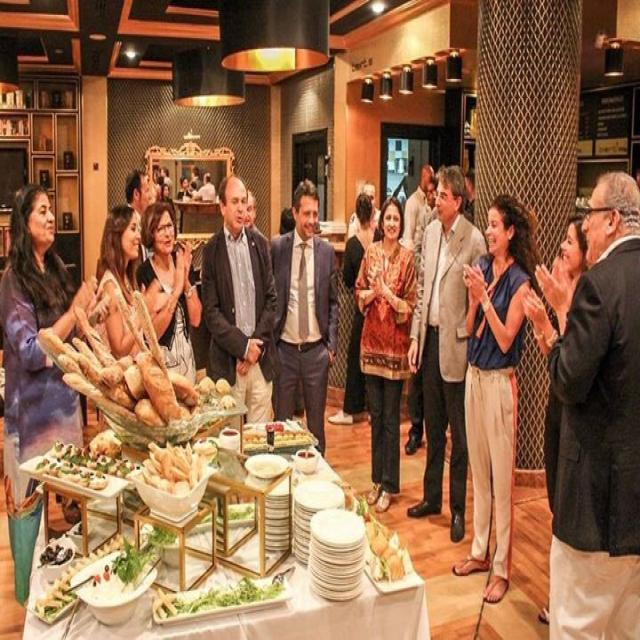body: (532, 167, 639, 638), (0, 178, 102, 610), (450, 191, 543, 606), (404, 161, 490, 547), (352, 192, 420, 516), (520, 211, 588, 520), (198, 172, 281, 424), (268, 178, 340, 460), (326, 192, 382, 428), (134, 199, 204, 385), (94, 202, 171, 360), (403, 203, 438, 456), (153, 160, 219, 236), (532, 253, 578, 344), (401, 162, 435, 253), (347, 180, 382, 241), (244, 187, 272, 245), (124, 168, 154, 215), (391, 156, 419, 198), (461, 169, 476, 229), (160, 182, 177, 220), (277, 207, 297, 237), (425, 172, 440, 212)
